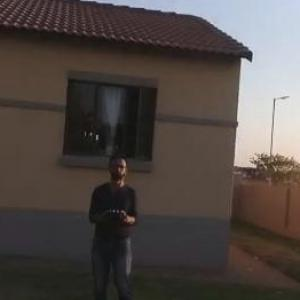follow: (82, 148, 149, 299)
